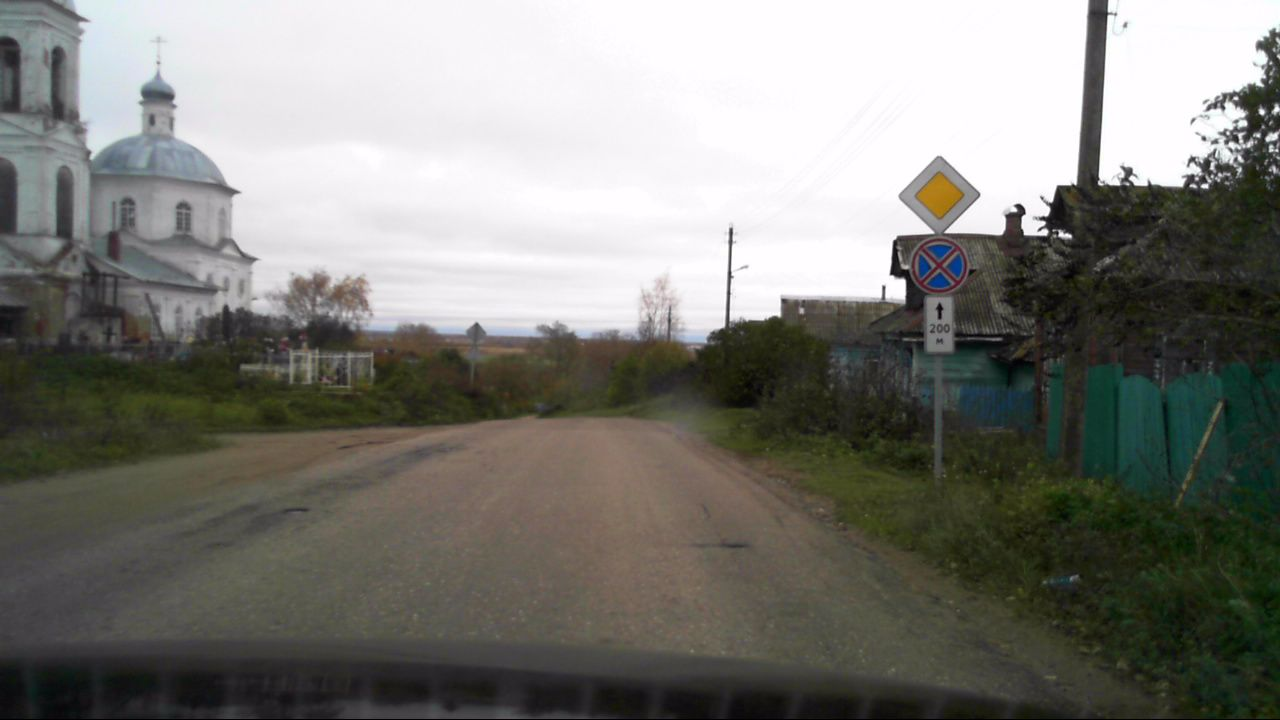No Parking: (907, 240, 970, 297)
